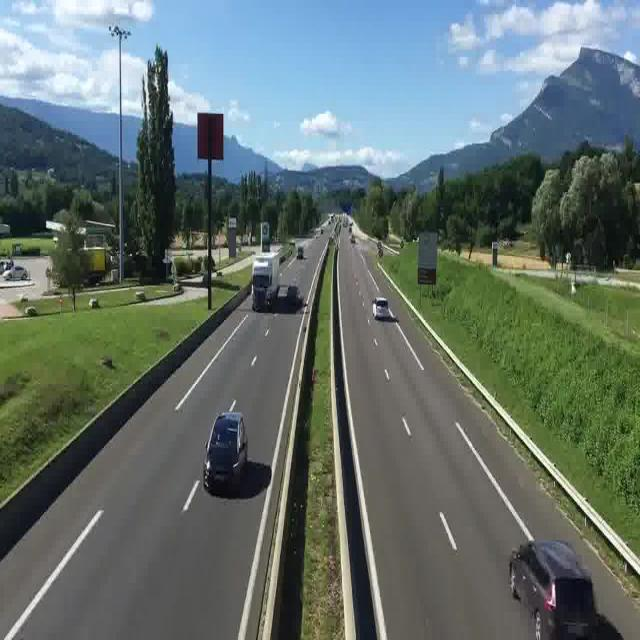Car: (504, 514, 601, 640), (194, 402, 256, 500), (370, 288, 390, 329), (292, 239, 308, 266)
Truck: (248, 245, 286, 318)
